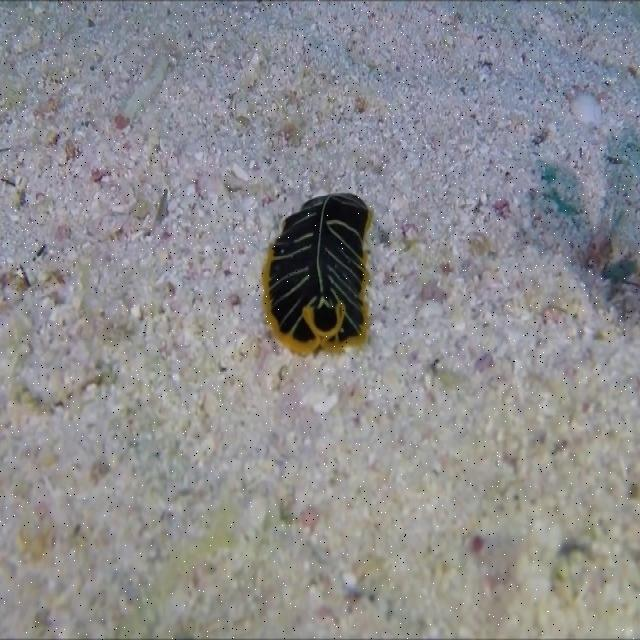reefs: (259, 192, 375, 356)
